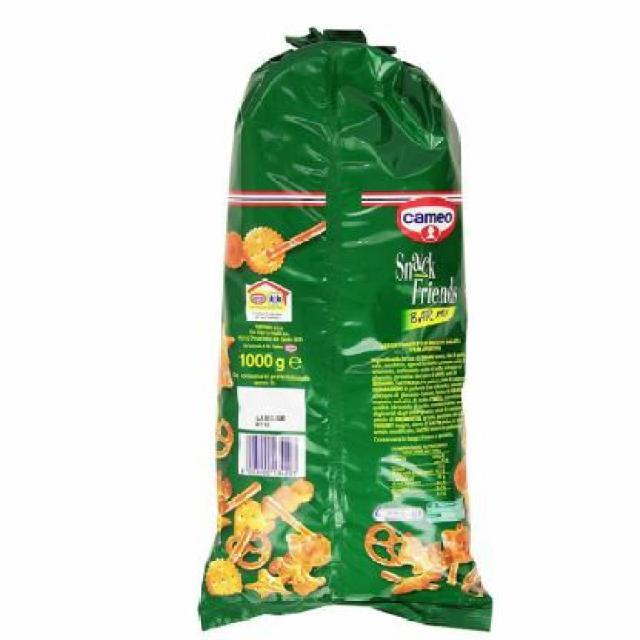Salatini: (197, 33, 506, 636)
